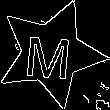M_N: (25, 26, 76, 81)
